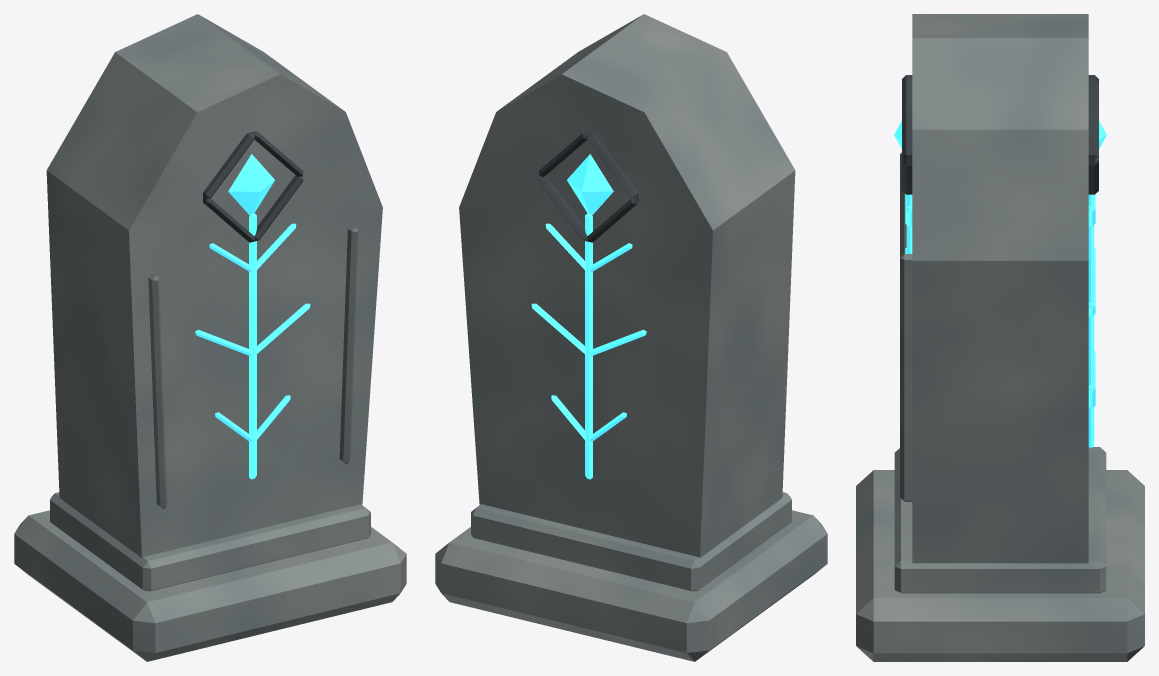
The model's file is echo_stone.glb.
3 views of the same model, side by side, from view 1: azimuth 30°, elevation 25°; view 2: azimuth 150°, elevation 25°; view 3: azimuth 270°, elevation 25° (orthographic). The views are drawn at different scales.
Parts seen in each view (by area): view 1: EchoStone_Mesh; view 2: EchoStone_Mesh; view 3: EchoStone_Mesh.
Boxes of the visible parts, x1,y1,x2,y2 form: EchoStone_Mesh: [14, 14, 406, 661]; EchoStone_Mesh: [435, 14, 827, 661]; EchoStone_Mesh: [856, 14, 1144, 661].
Bounding box in the file's own units: 0.96 × 1.8 × 0.82.
Materials: 1 (1 with a texture image).
